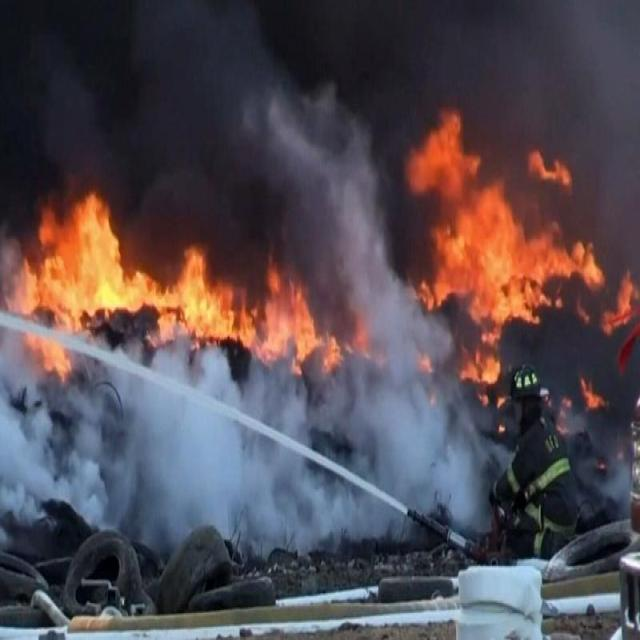Fire: (8, 190, 342, 380), (402, 110, 602, 386), (600, 273, 636, 334), (580, 380, 605, 410)
Smoke: (191, 56, 404, 245), (3, 383, 62, 549), (272, 484, 360, 564), (60, 421, 115, 530)
